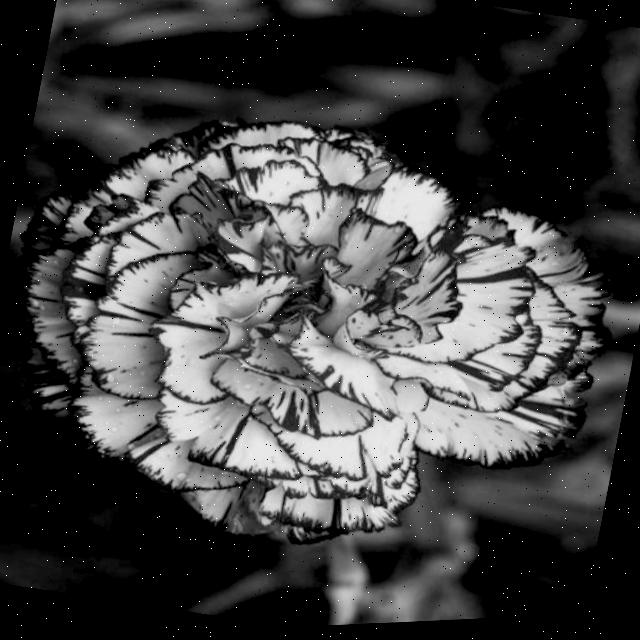carnation: (0, 60, 624, 609)
